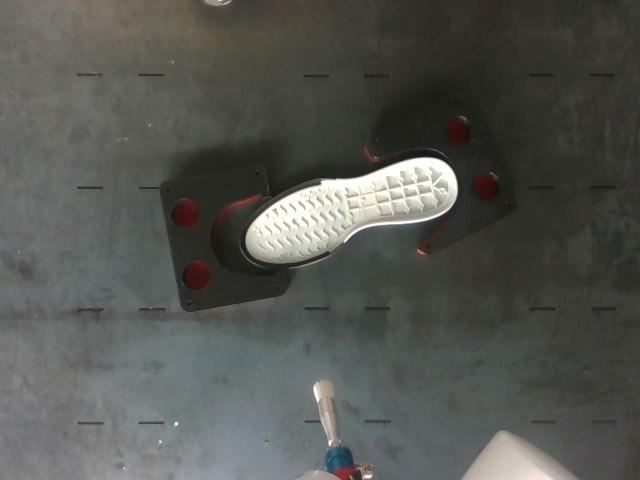shoes: (240, 158, 457, 268)
